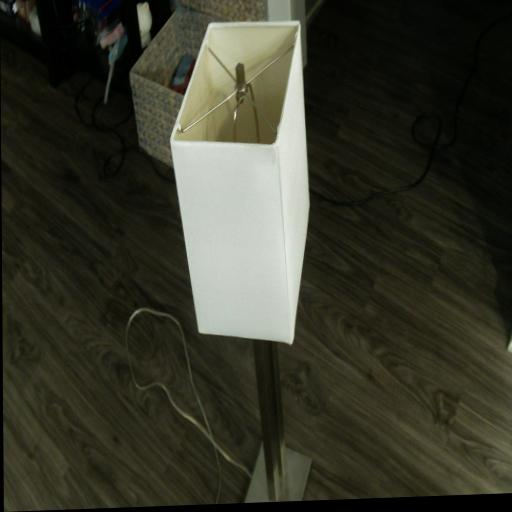lamp: (169, 18, 315, 505)
